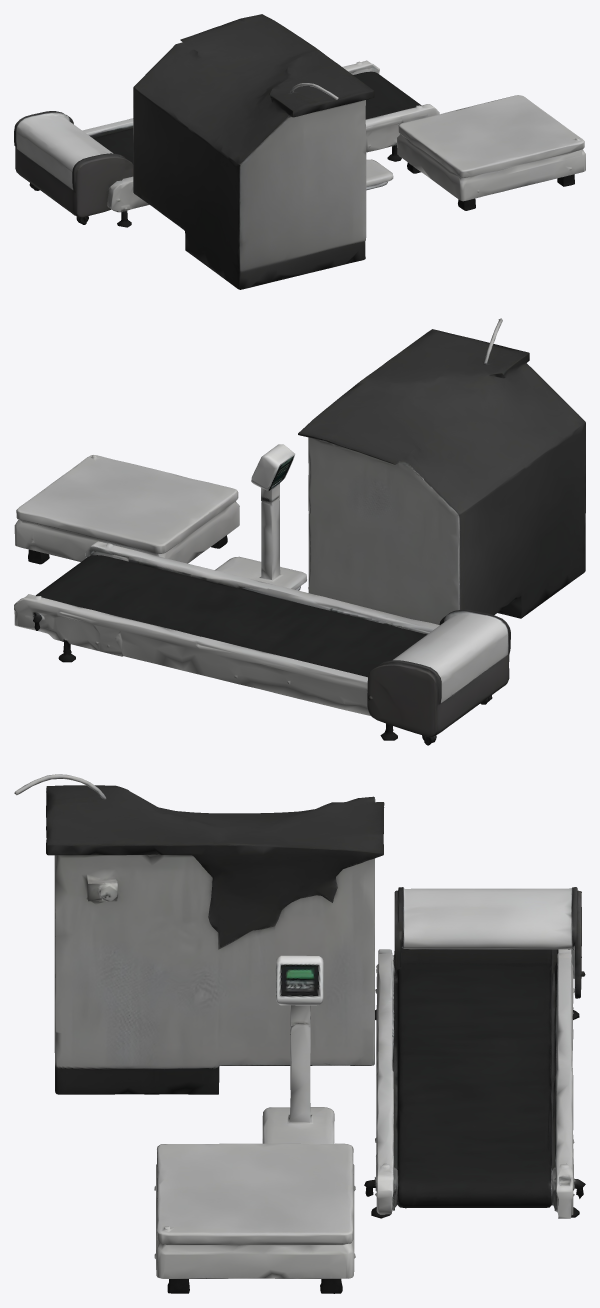
Rendered from checkin-desk.glb.
3 views of the same model, one above another, from view 1: azimuth 30°, elevation 25°; view 2: azimuth 150°, elevation 25°; view 3: azimuth 270°, elevation 25° (orthographic). The views are drawn at different scales.
Visible parts, largest first — view 1: tripo_node_01a217dc-1565-79fd-940b-4447bb01ec2b; view 2: tripo_node_01a217dc-1565-79fd-940b-4447bb01ec2b; view 3: tripo_node_01a217dc-1565-79fd-940b-4447bb01ec2b.
Boxes of the visible parts, x1,y1,x2,y2 form: tripo_node_01a217dc-1565-79fd-940b-4447bb01ec2b: (14, 14, 585, 289); tripo_node_01a217dc-1565-79fd-940b-4447bb01ec2b: (14, 318, 585, 745); tripo_node_01a217dc-1565-79fd-940b-4447bb01ec2b: (14, 774, 585, 1293).
Bounding box in the file's own units: 1 × 0.4461 × 0.7632.
1 material, 1 textured.
